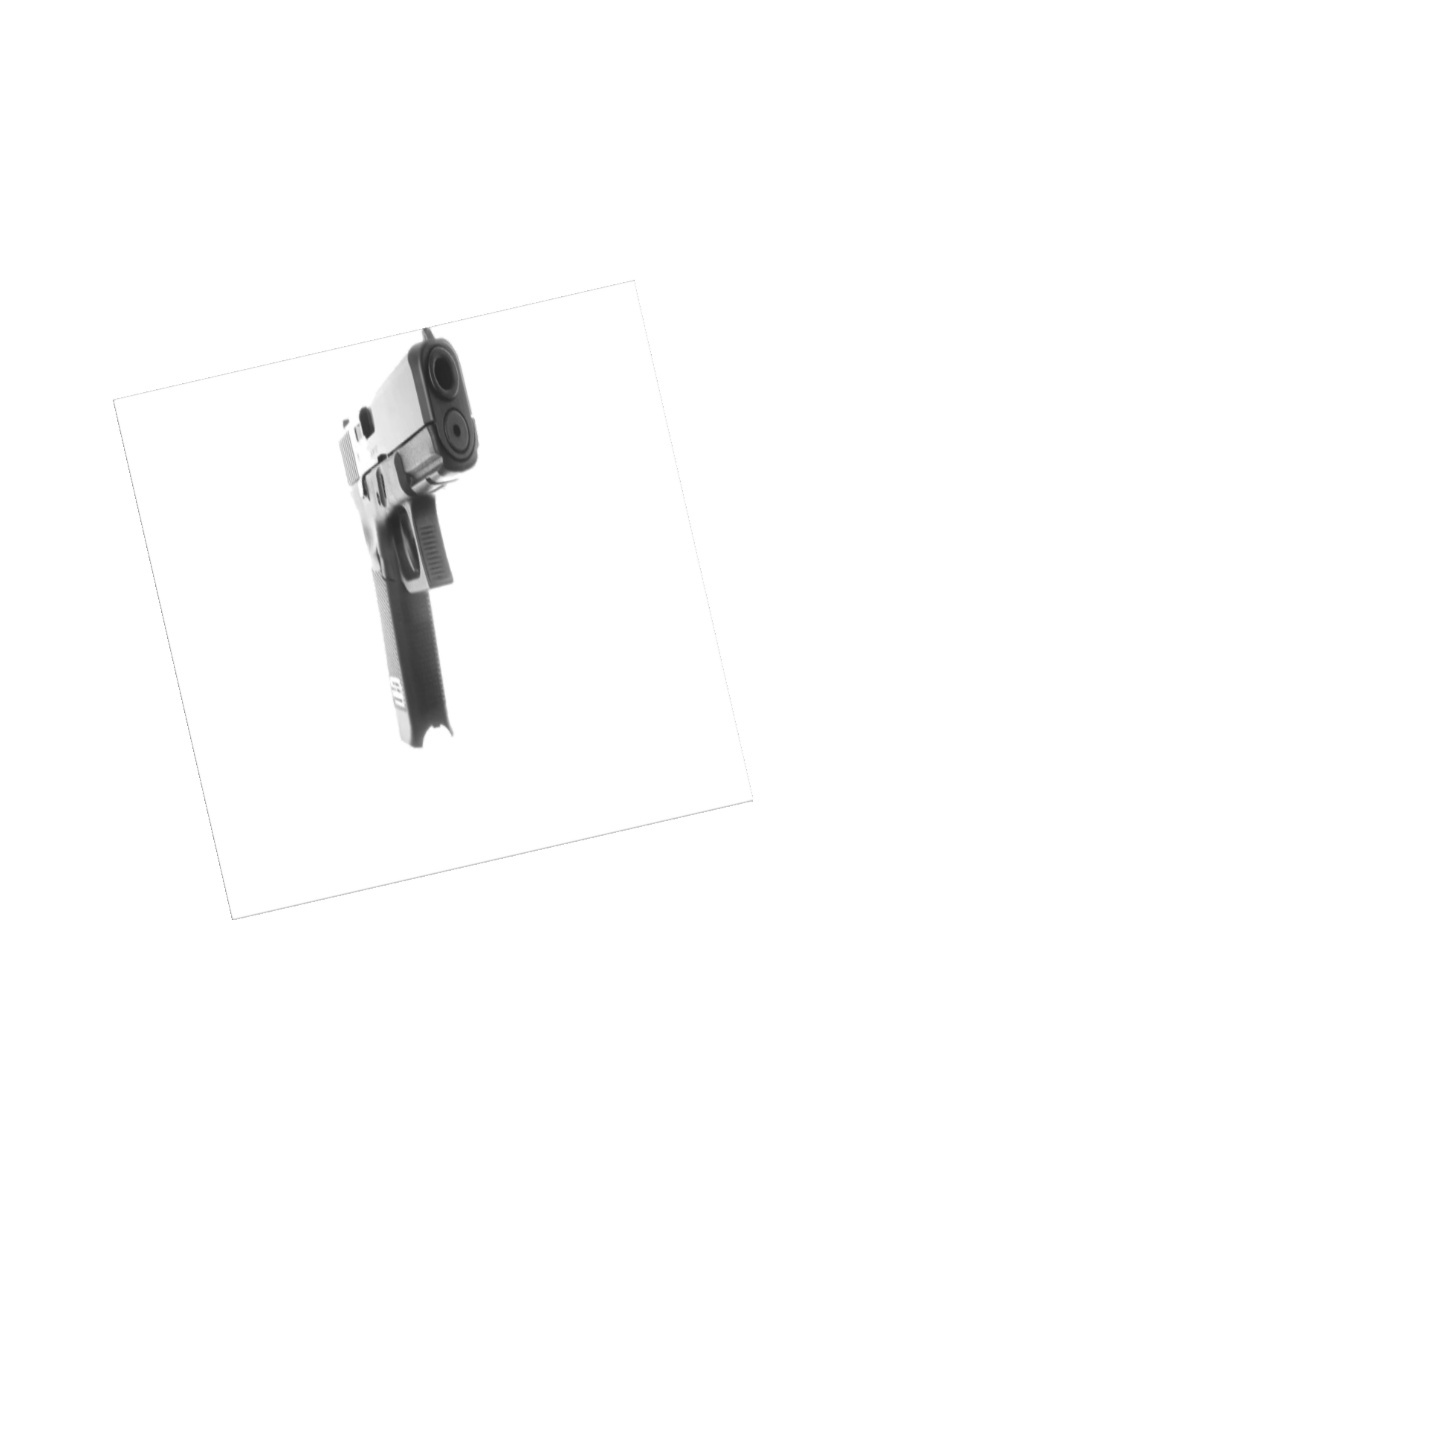gun: (323, 321, 508, 753)
